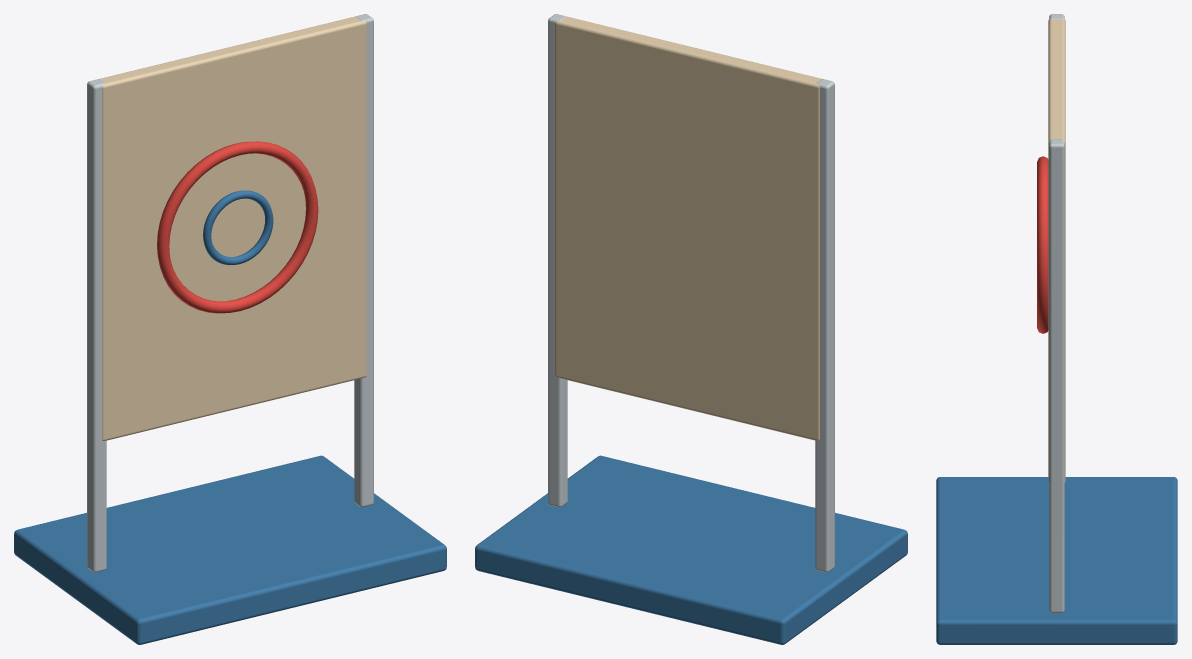
The model's file is squash-club-and-racket-workshop-training-rebound-targe-6a5fcbab__29781.glb.
3 views of the same model, side by side, from view 1: azimuth 30°, elevation 25°; view 2: azimuth 150°, elevation 25°; view 3: azimuth 270°, elevation 25° (orthographic). The views are drawn at different scales.
Visible parts, largest first — view 1: training-rebound-target; view 2: training-rebound-target; view 3: training-rebound-target.
Part boxes in pixels (x1=…): training-rebound-target: x1=14, y1=14, x2=446, y2=644; training-rebound-target: x1=475, y1=14, x2=907, y2=644; training-rebound-target: x1=936, y1=14, x2=1177, y2=644.
Bounding box in the file's own units: 1 × 1.58 × 0.7.
